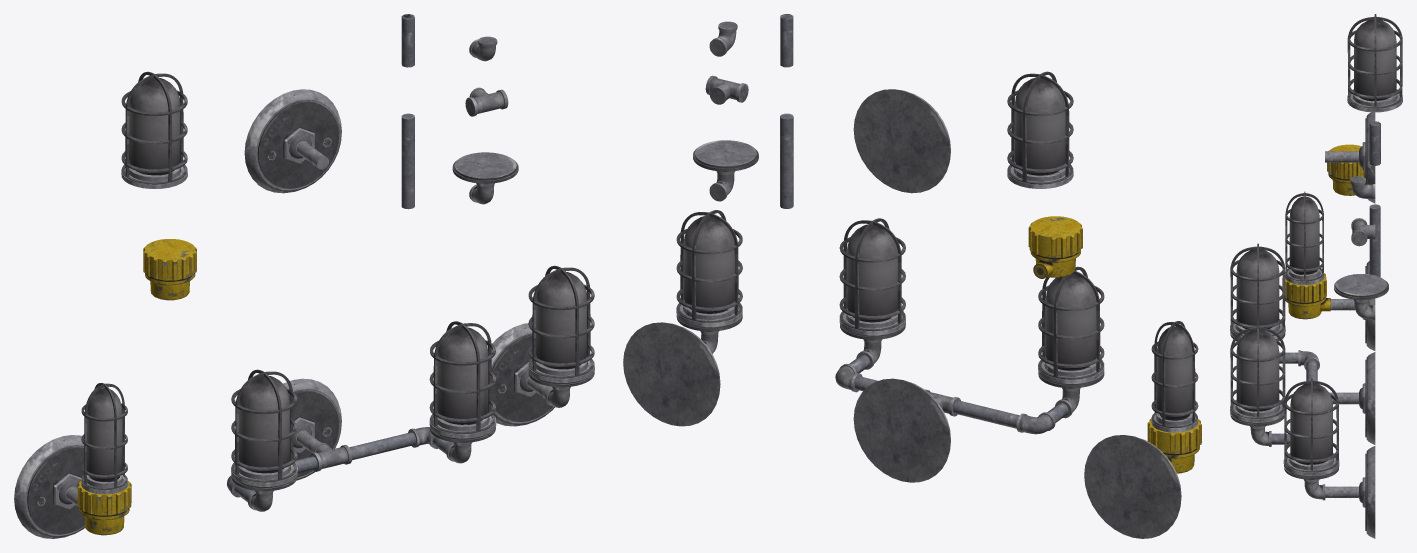
File: caged-wall-sconce-kit.glb
3 renders of one model, left to right at view 1: azimuth 30°, elevation 25°; view 2: azimuth 150°, elevation 25°; view 3: azimuth 270°, elevation 25°, orthographic. The views are drawn at different scales.
Visible parts, largest first — view 1: industrial_caged_sconce_c, industrial_caged_sconce_b, industrial_caged_sconce_a, industrial_caged_sconce_mount, industrial_caged_sconce_light, industrial_caged_sconce_base_a, industrial_caged_sconce_base_b, industrial_caged_sconce_pipe_long, industrial_caged_sconce_pipe_t, industrial_caged_sconce_pipe_short; view 2: industrial_caged_sconce_c, industrial_caged_sconce_a, industrial_caged_sconce_b, industrial_caged_sconce_mount, industrial_caged_sconce_light, industrial_caged_sconce_base_a, industrial_caged_sconce_base_b, industrial_caged_sconce_pipe_long, industrial_caged_sconce_pipe_t, industrial_caged_sconce_pipe_short; view 3: industrial_caged_sconce_c, industrial_caged_sconce_a, industrial_caged_sconce_b, industrial_caged_sconce_light, industrial_caged_sconce_base_b, industrial_caged_sconce_mount, industrial_caged_sconce_base_a, industrial_caged_sconce_pipe_long, industrial_caged_sconce_pipe_t, industrial_caged_sconce_pipe_short, industrial_caged_sconce_elbow.
Boxes of the visible parts, box(x1,y1,x2,y2) form: industrial_caged_sconce_c: box(227, 321, 496, 511); industrial_caged_sconce_b: box(14, 383, 131, 538); industrial_caged_sconce_a: box(491, 265, 594, 426); industrial_caged_sconce_mount: box(244, 89, 341, 193); industrial_caged_sconce_light: box(121, 71, 187, 188); industrial_caged_sconce_base_a: box(143, 239, 196, 300); industrial_caged_sconce_base_b: box(452, 152, 518, 204); industrial_caged_sconce_pipe_long: box(401, 113, 414, 209); industrial_caged_sconce_pipe_t: box(465, 87, 508, 116); industrial_caged_sconce_pipe_short: box(401, 14, 414, 67); industrial_caged_sconce_c: box(835, 218, 1104, 482); industrial_caged_sconce_a: box(623, 210, 742, 426); industrial_caged_sconce_b: box(1084, 321, 1201, 538); industrial_caged_sconce_mount: box(853, 89, 950, 193); industrial_caged_sconce_light: box(1007, 71, 1073, 188); industrial_caged_sconce_base_a: box(1028, 216, 1082, 278); industrial_caged_sconce_base_b: box(693, 140, 758, 201); industrial_caged_sconce_pipe_long: box(780, 113, 793, 208); industrial_caged_sconce_pipe_t: box(705, 75, 748, 104); industrial_caged_sconce_pipe_short: box(780, 14, 793, 67); industrial_caged_sconce_c: box(1230, 243, 1375, 446); industrial_caged_sconce_a: box(1283, 378, 1375, 538); industrial_caged_sconce_b: box(1282, 191, 1375, 350); industrial_caged_sconce_light: box(1347, 14, 1402, 112); industrial_caged_sconce_base_b: box(1334, 274, 1388, 320); industrial_caged_sconce_mount: box(1325, 110, 1375, 203); industrial_caged_sconce_base_a: box(1327, 144, 1365, 195); industrial_caged_sconce_pipe_long: box(1369, 204, 1380, 277); industrial_caged_sconce_pipe_t: box(1351, 218, 1375, 246); industrial_caged_sconce_pipe_short: box(1369, 121, 1380, 165); industrial_caged_sconce_elbow: box(1350, 176, 1375, 199).
Bounding box in the file's own units: 1.21 × 0.9128 × 0.3894.
Materials: 1 (1 with a texture image).
